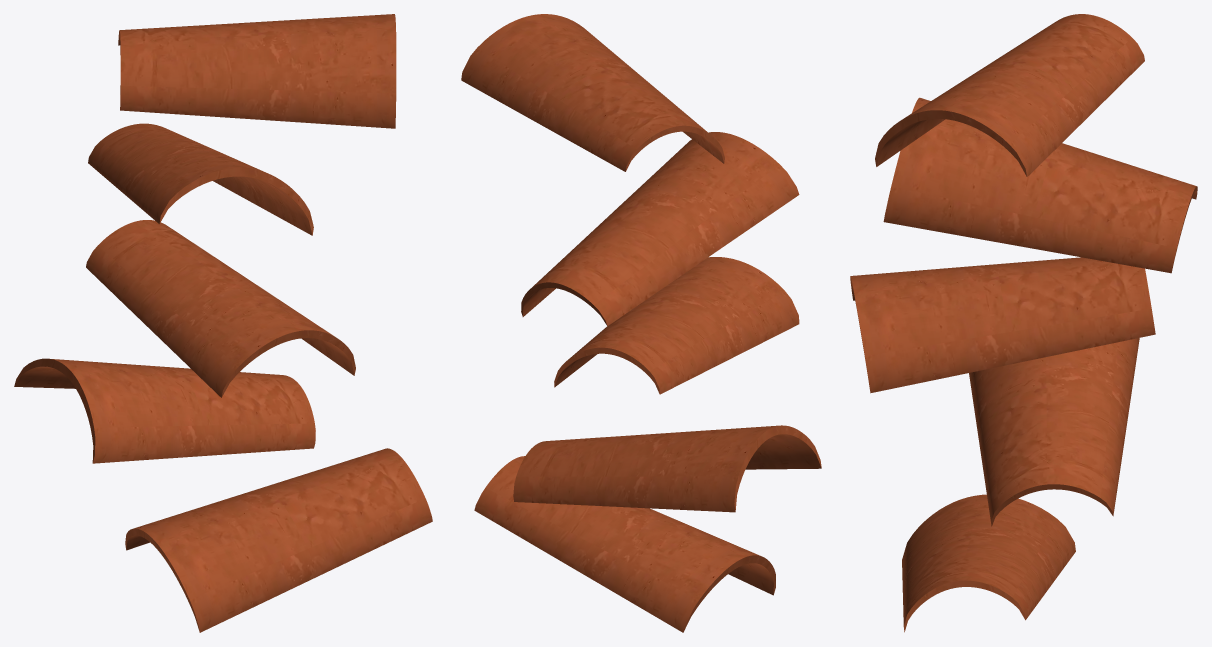
Rendered from COB-CUM-004_anim.glb.
The picture shows the model from 3 angles, left to right: view 1: azimuth 30°, elevation 25°; view 2: azimuth 150°, elevation 25°; view 3: azimuth 270°, elevation 25°; orthographic projection. The views are drawn at different scales.
Parts seen in each view (by area): view 1: COB-CUM-004_anim0, COB-CUM-004_anim4, COB-CUM-004_anim1, COB-CUM-004_anim2, COB-CUM-004_anim3; view 2: COB-CUM-004_anim3, COB-CUM-004_anim4, COB-CUM-004_anim0, COB-CUM-004_anim1, COB-CUM-004_anim2; view 3: COB-CUM-004_anim2, COB-CUM-004_anim3, COB-CUM-004_anim1, COB-CUM-004_anim4, COB-CUM-004_anim0.
Part boxes in pixels (x1,y1,x2,y2): COB-CUM-004_anim0: (125,448,432,632); COB-CUM-004_anim4: (118,14,396,128); COB-CUM-004_anim1: (14,358,315,463); COB-CUM-004_anim2: (86,220,355,397); COB-CUM-004_anim3: (88,123,313,235); COB-CUM-004_anim3: (521,132,799,326); COB-CUM-004_anim4: (461,14,724,171); COB-CUM-004_anim0: (474,456,775,632); COB-CUM-004_anim1: (513,425,821,512); COB-CUM-004_anim2: (554,257,799,394); COB-CUM-004_anim2: (850,257,1155,393); COB-CUM-004_anim3: (883,97,1197,273); COB-CUM-004_anim1: (969,338,1139,526); COB-CUM-004_anim4: (875,14,1144,176); COB-CUM-004_anim0: (902,494,1075,632).
Bounding box in the file's own units: 0.5524 × 0.8645 × 0.477.
1 material, 1 textured.
